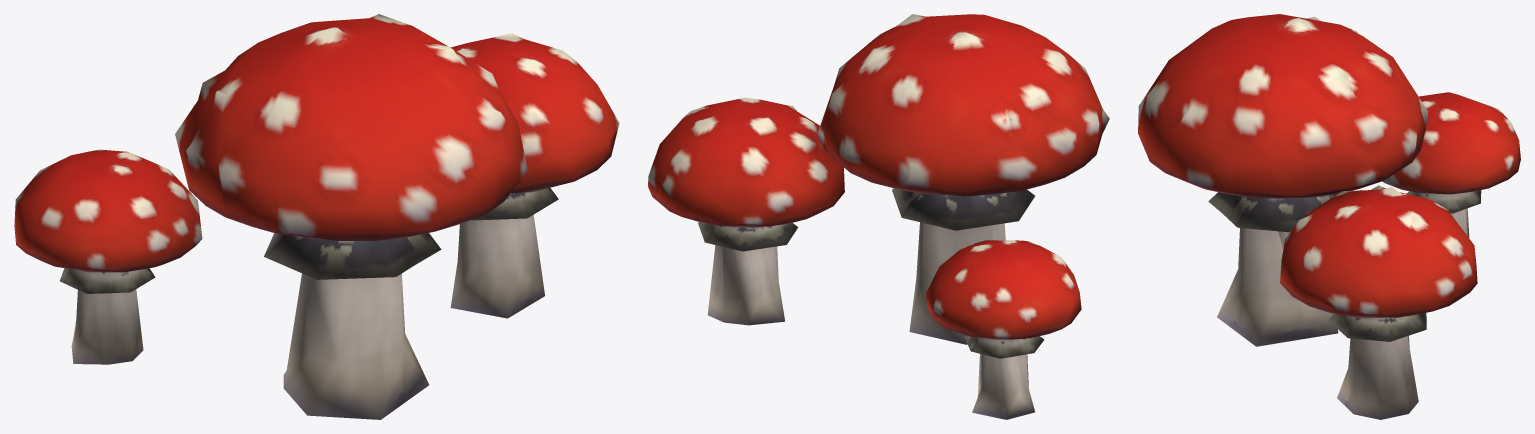
The model's file is toadstools.glb.
The picture shows the model from 3 angles, left to right: view 1: azimuth 30°, elevation 25°; view 2: azimuth 150°, elevation 25°; view 3: azimuth 270°, elevation 25°; orthographic projection. The views are drawn at different scales.
Parts seen in each view (by area): view 1: toadstools; view 2: toadstools; view 3: toadstools.
Boxes of the visible parts, x1,y1,x2,y2 form: toadstools: [14, 14, 619, 419]; toadstools: [648, 14, 1109, 419]; toadstools: [1138, 14, 1520, 419].
Bounding box in the file's own units: 0.7966 × 0.5031 × 0.5914.
Materials: 1 (1 with a texture image).
